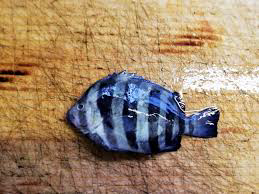azi: (62, 71, 219, 158)
